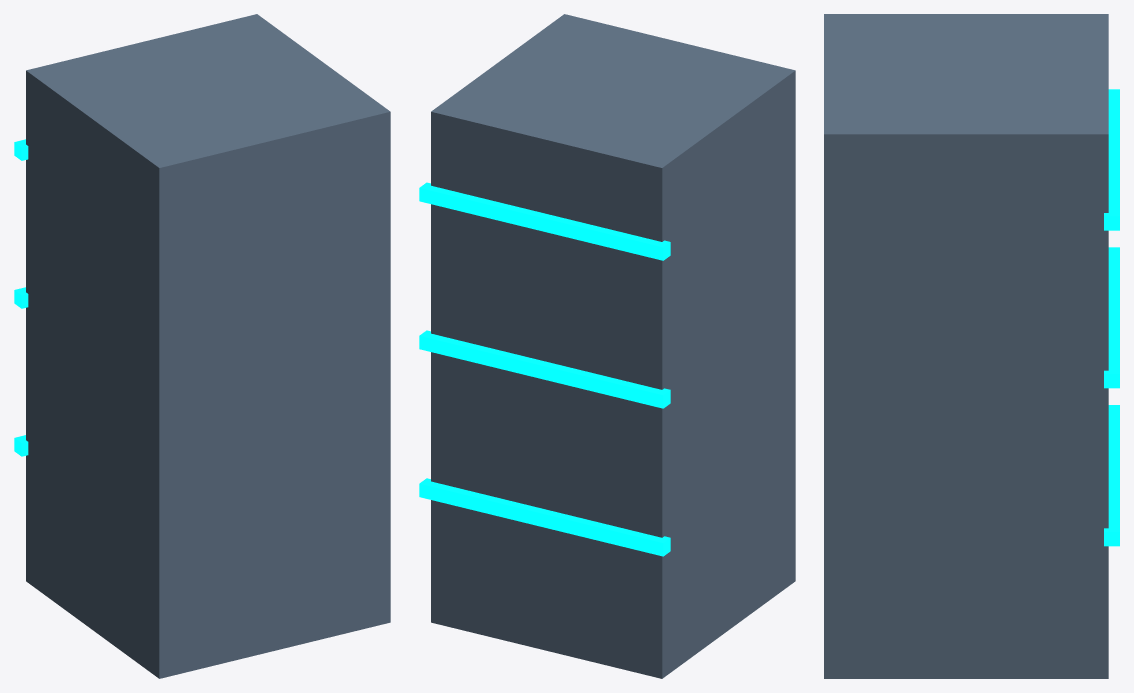
File: bldg_data.glb
3 renders of one model, left to right at view 1: azimuth 30°, elevation 25°; view 2: azimuth 150°, elevation 25°; view 3: azimuth 270°, elevation 25°, orthographic. The views are drawn at different scales.
Visible parts, largest first — view 1: Body; view 2: Body, Strip0, Strip1, Strip2; view 3: Body, Strip0, Strip1, Strip2.
Boxes of the visible parts, x1,y1,x2,y2 form: Body: (26, 14, 390, 678); Body: (431, 14, 795, 678); Strip0: (419, 478, 670, 556); Strip1: (419, 330, 670, 408); Strip2: (419, 182, 670, 260); Body: (824, 14, 1108, 678); Strip0: (1104, 405, 1119, 546); Strip1: (1104, 247, 1119, 388); Strip2: (1104, 89, 1119, 230).
Size of the model in its own units: 0.95 by 1.9 by 0.935.
